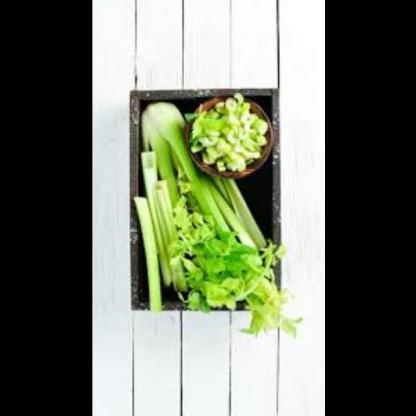celery: (132, 102, 303, 339), (133, 147, 190, 313), (190, 94, 271, 184)
